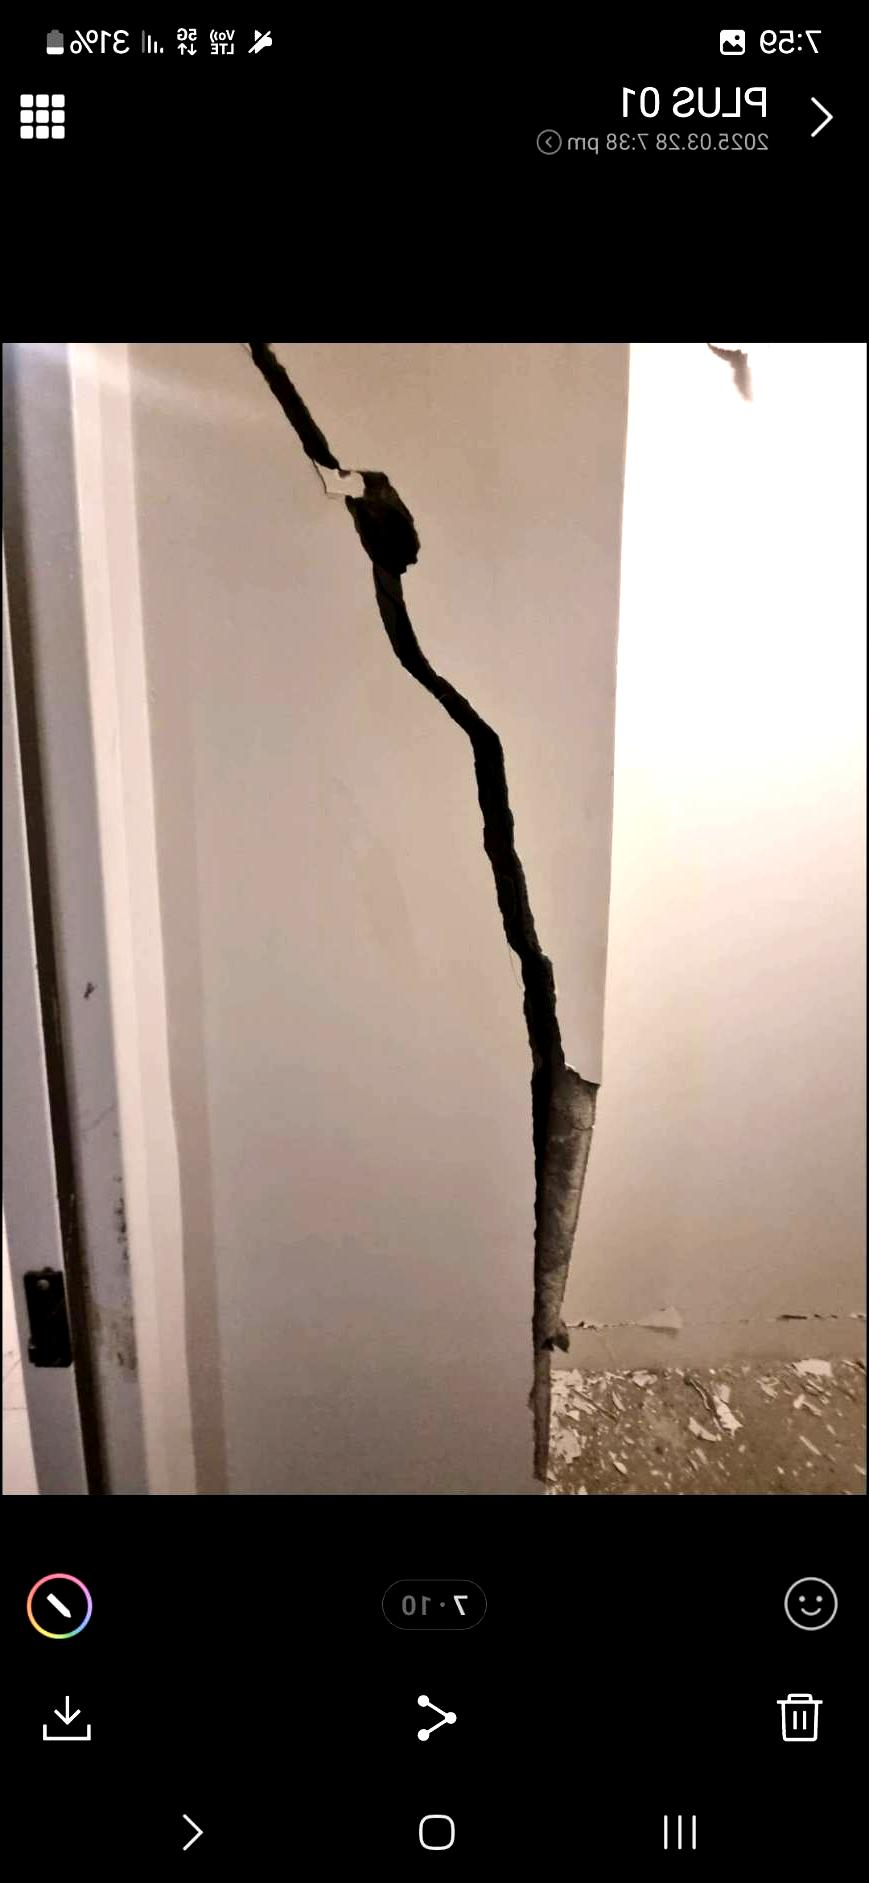High: (212, 342, 623, 1486)
